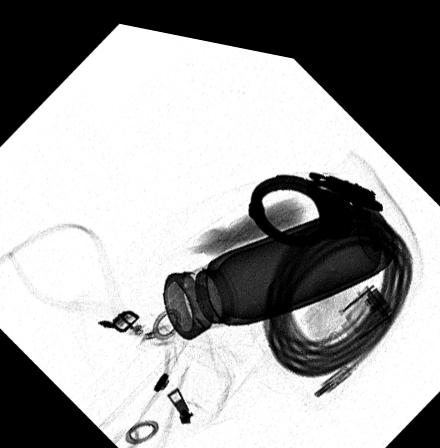HandCuffs: (246, 157, 382, 234)
